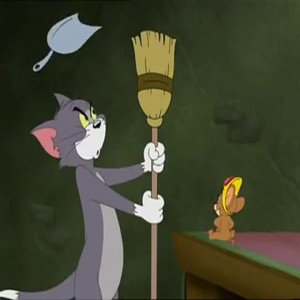Jerry: (209, 173, 246, 241)
